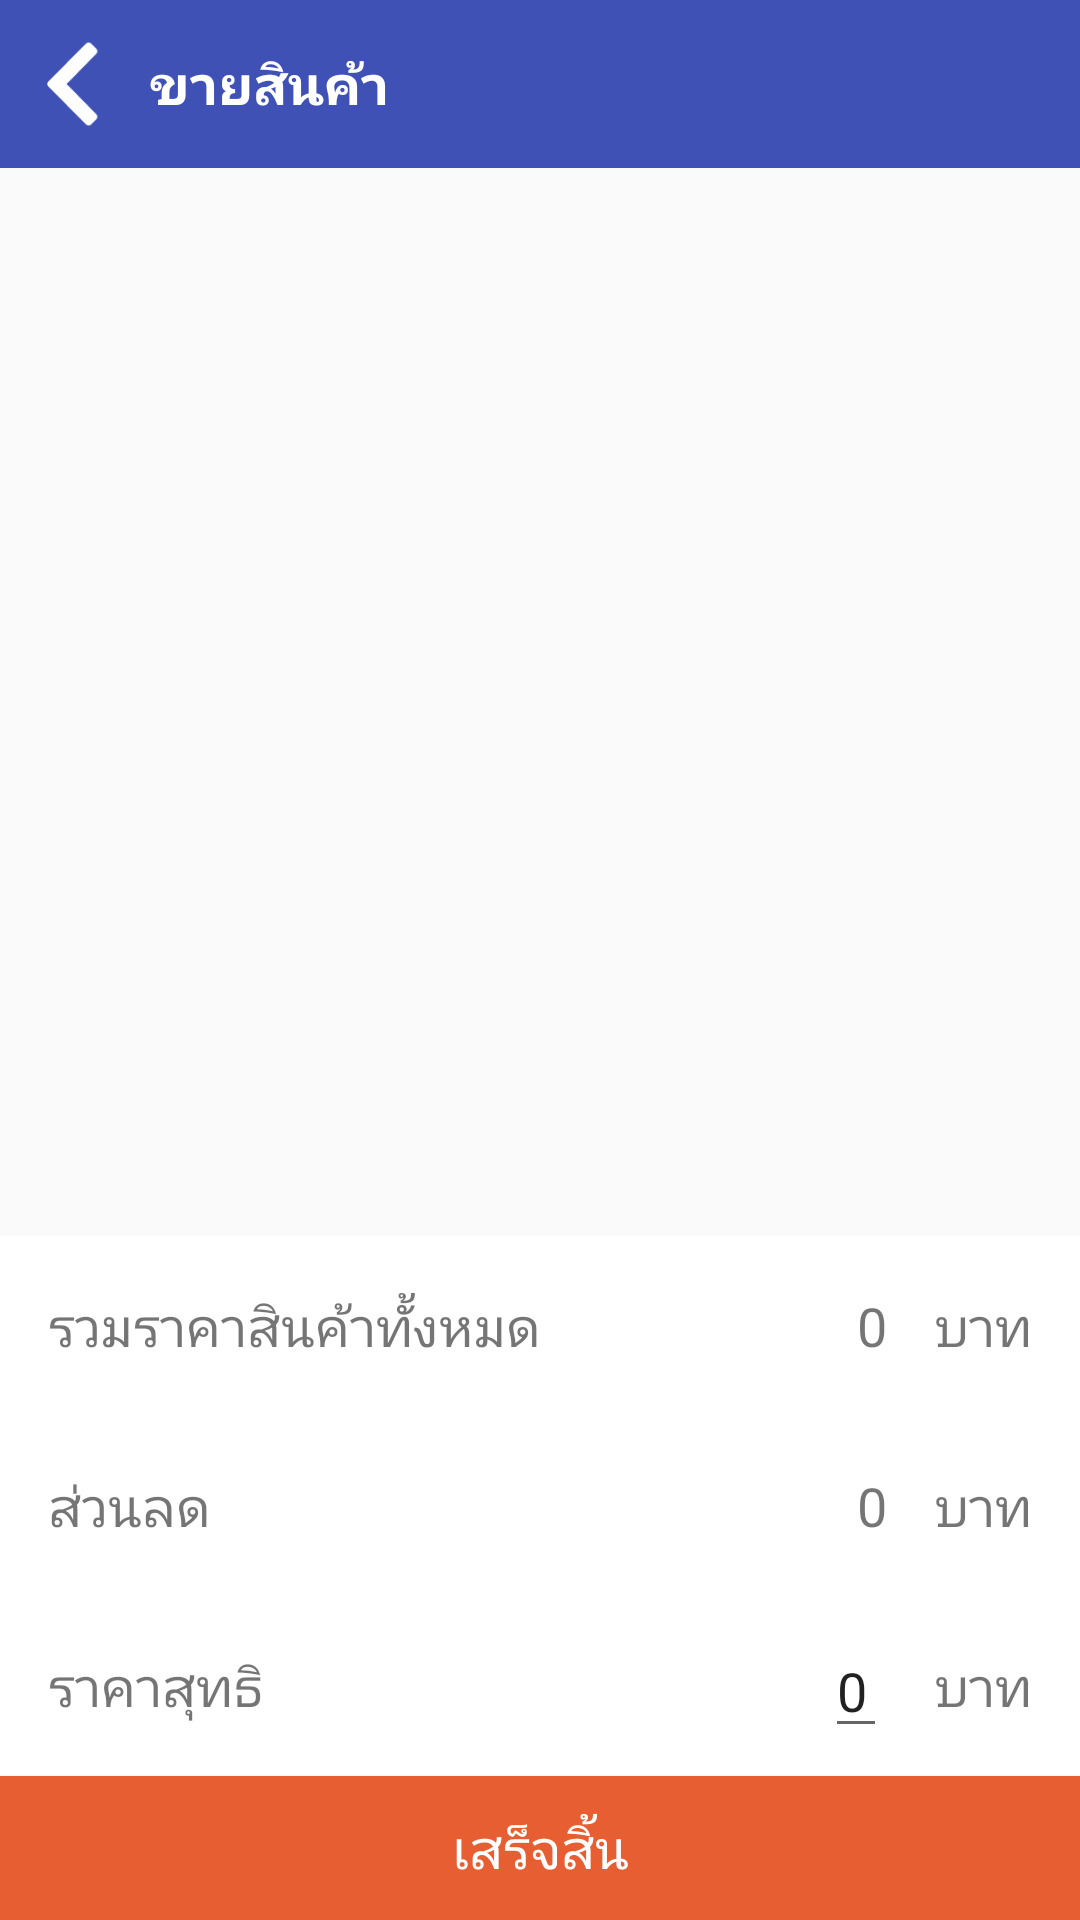

Icon bounding boxes for this 1080px×1920px phone screenshot, format (x1, y1, x2, y2):
back: (47, 42, 98, 126)
